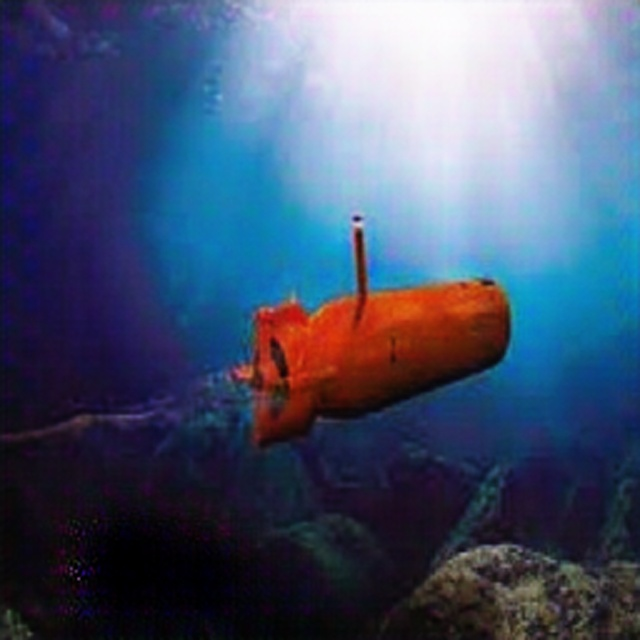submarine: (241, 192, 516, 466)
